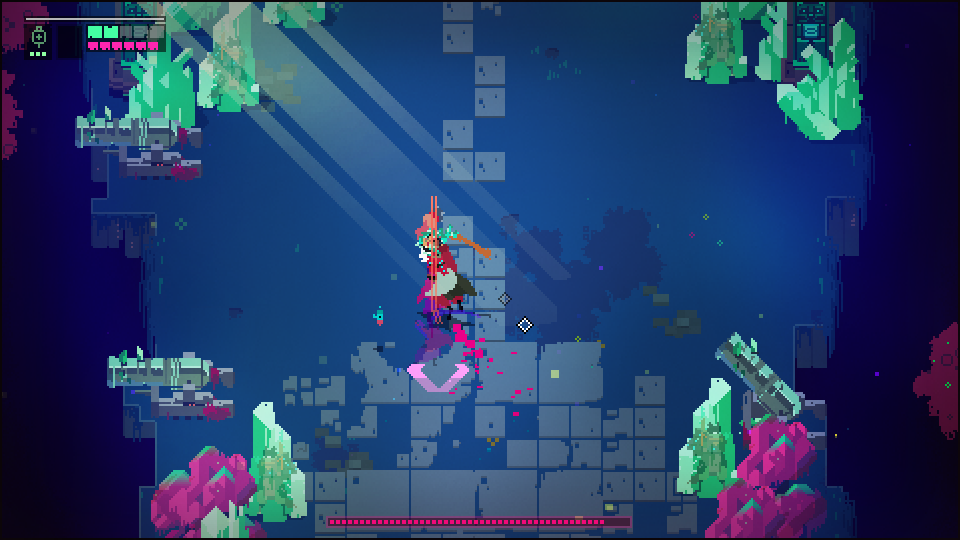hanged_man: (409, 226, 491, 340)
